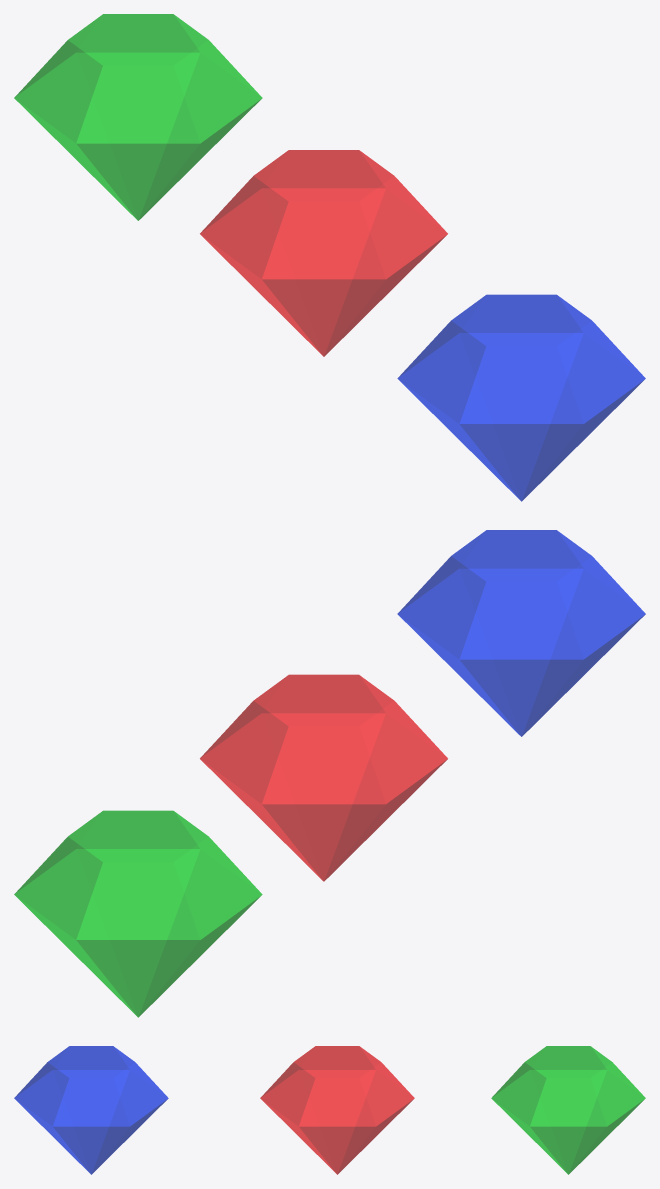
The model's file is diamonds2.fbx.
The picture shows the model from 3 angles, top to bottom: view 1: azimuth 30°, elevation 25°; view 2: azimuth 150°, elevation 25°; view 3: azimuth 270°, elevation 25°; orthographic projection. The views are drawn at different scales.
Parts seen in each view (by area): view 1: Cylinder.001, Cylinder.003, Cylinder.002; view 2: Cylinder.002, Cylinder.003, Cylinder.001; view 3: Cylinder.002, Cylinder.001, Cylinder.003.
Part boxes in pixels (x1,y1,x2,y2): Cylinder.001: (397, 294, 645, 501); Cylinder.003: (14, 14, 262, 220); Cylinder.002: (200, 150, 447, 356); Cylinder.002: (200, 674, 447, 881); Cylinder.003: (14, 810, 262, 1017); Cylinder.001: (397, 530, 645, 736); Cylinder.002: (260, 1046, 414, 1174); Cylinder.001: (14, 1046, 168, 1174); Cylinder.003: (491, 1046, 645, 1174).
Bounding box in the file's own units: 173 × 161 × 816.
